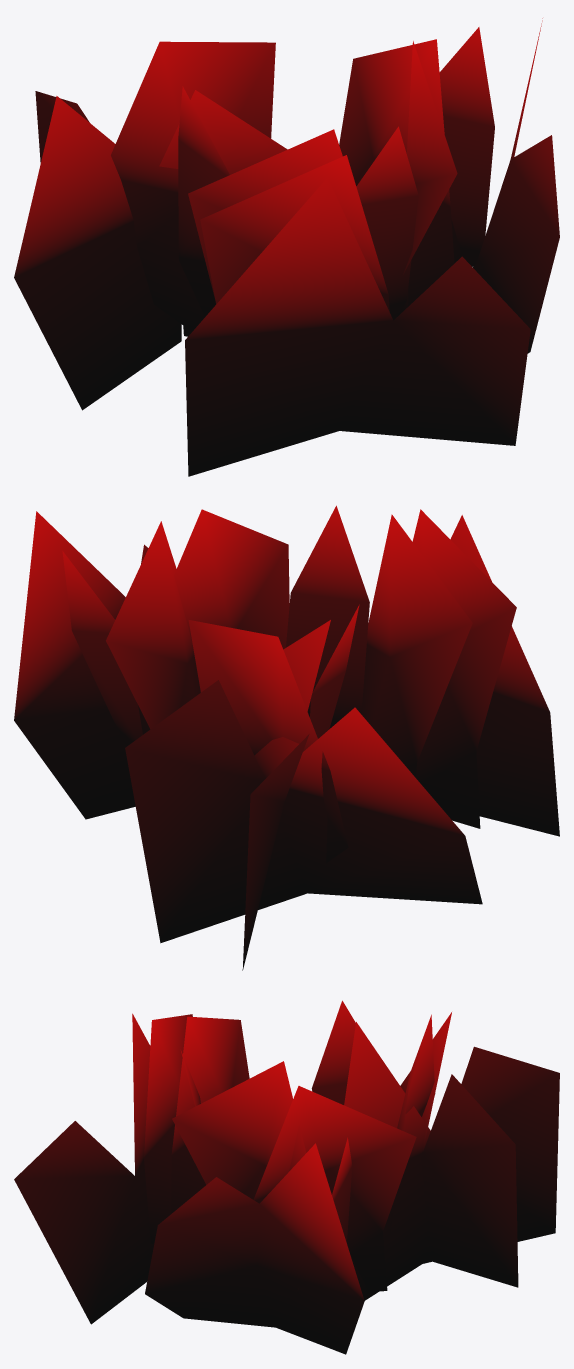
Rendered from Jenny_2.fbx.
The picture shows the model from 3 angles, top to bottom: view 1: azimuth 30°, elevation 25°; view 2: azimuth 150°, elevation 25°; view 3: azimuth 270°, elevation 25°; orthographic projection. The views are drawn at different scales.
Visible parts, largest first — view 1: Jenny_2; view 2: Jenny_2; view 3: Jenny_2.
Part boxes in pixels (bbox=[...]): Jenny_2: bbox=[14, 18, 559, 476]; Jenny_2: bbox=[14, 505, 559, 970]; Jenny_2: bbox=[14, 1000, 559, 1354].
Bounding box in the file's own units: 104 × 65.43 × 121.
